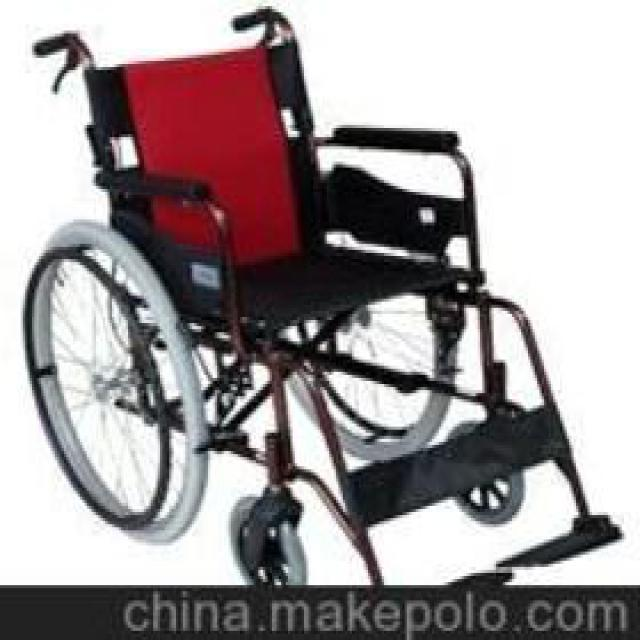wheelchair: (21, 0, 622, 579)
